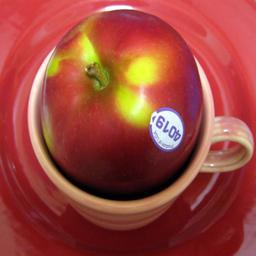apple: (41, 9, 204, 199)
